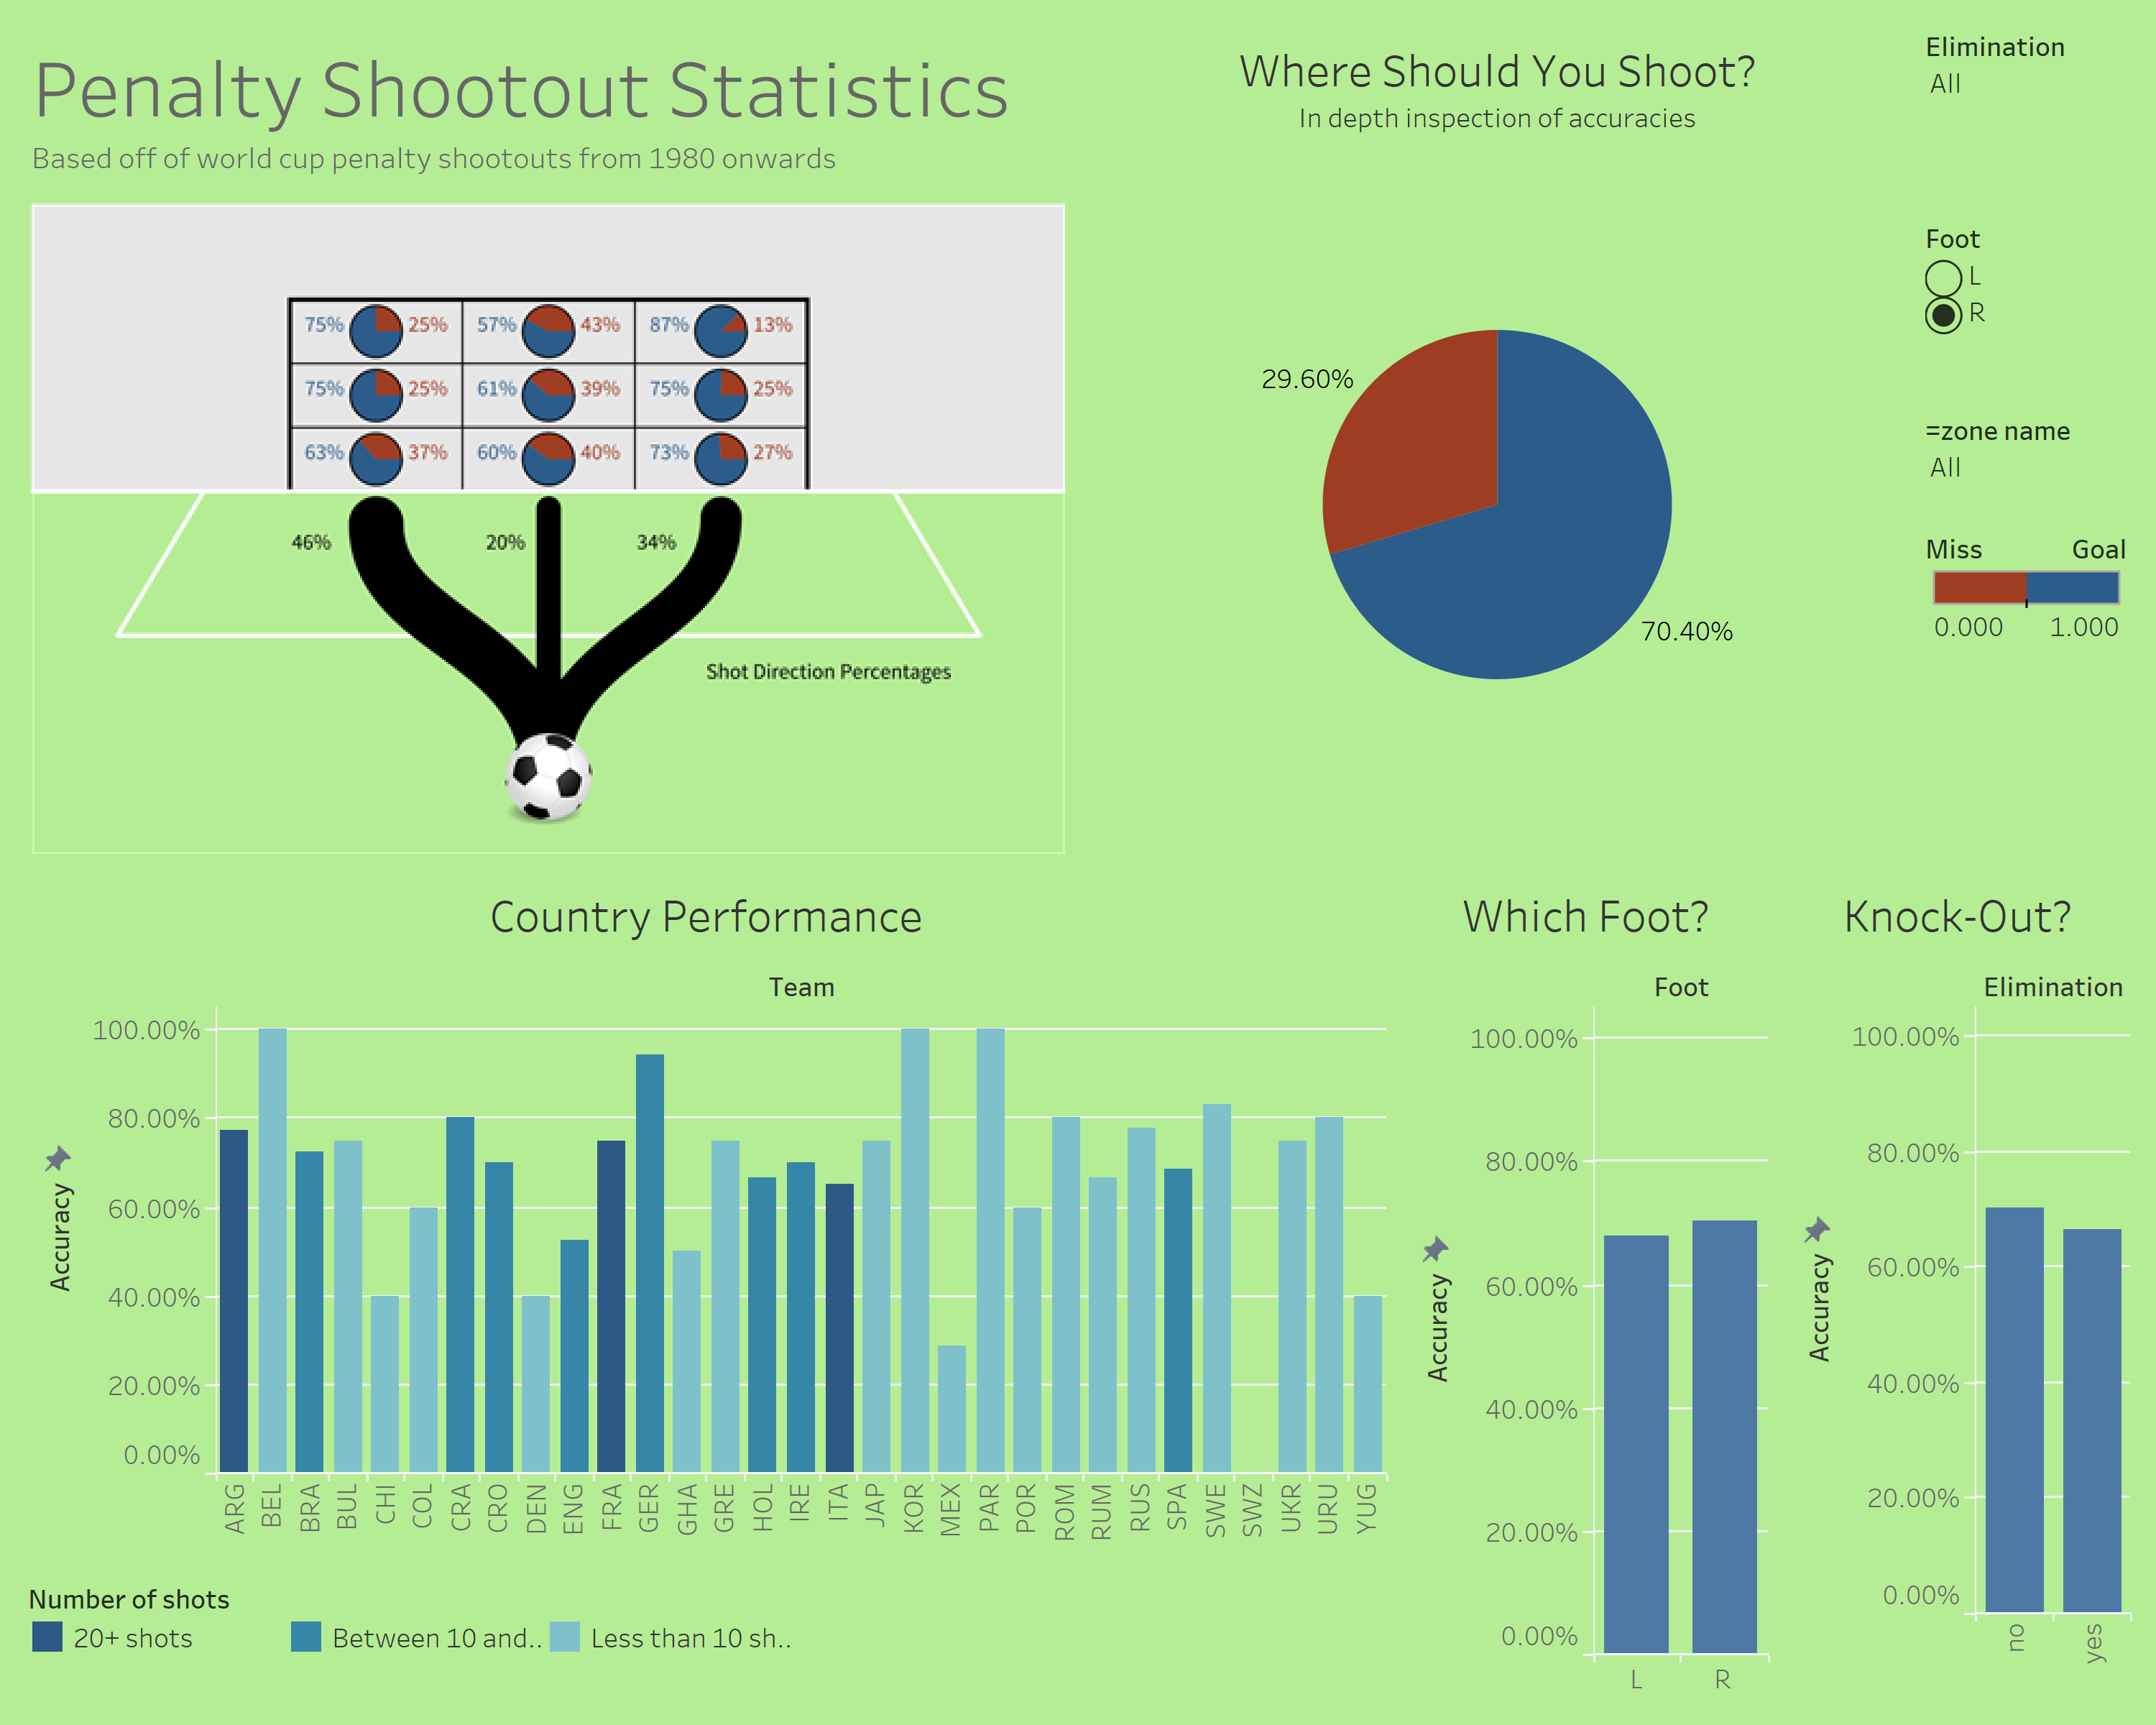

What the dashboard file says about the page in this screenshot:
{"tool":"tableau","page":{"name":"Dashboard 1","canvas":[1000,800],"ordinal":0},"visuals":[{"type":"text","box":[8,8,491.9,82]},{"type":"worksheet","title":"Where Should You Shoot?","mark":"Pie","box":[499.9,8,388.9,392]},{"type":"filter","title":"Where Should You Shoot?","param":"[federated.1uyu1qz1gg6x9h12y7zmn0uqft87].[none:Calculation_606578625202626565:nk","box":[888.8,8,103.2,89]},{"type":"image","param":"C:/Users/johnn/OneDrive/Documents/Processing/Penalty_Goals_stats/data/goals_crop","box":[8,90,491.9,310]},{"type":"filter","title":"Where Should You Shoot?","param":"[federated.1uyu1qz1gg6x9h12y7zmn0uqft87].[none:Foot:nk]","box":[888.8,97,103.2,89]},{"type":"filter","title":"Where Should You Shoot?","param":"[federated.1uyu1qz1gg6x9h12y7zmn0uqft87].[none:Calculation_606578625232199691:nk","box":[888.8,186,103.2,52]},{"type":"legend","title":"Where Should You Shoot?","param":"[federated.1uyu1qz1gg6x9h12y7zmn0uqft87].[Multiple Values]","box":[888.8,238,103.2,65]},{"type":"worksheet","title":"Country Performance","mark":"Automatic","rows":["Calculation_1116048332958175233"],"cols":["Team"],"box":[8,400,638.7,327]},{"type":"worksheet","title":"Which Foot?","mark":"Automatic","rows":["Calculation_1116048332958175233"],"cols":["Foot"],"box":[646.7,400,177,392]},{"type":"worksheet","title":"Knock-Out?","mark":"Automatic","rows":["Calculation_1116048332958175233"],"cols":["Calculation_606578625202626565"],"box":[823.7,400,168.3,392]},{"type":"legend","title":"Country Performance","param":"[federated.1uyu1qz1gg6x9h12y7zmn0uqft87].[usr:Calculation_606578625195307011:nk]","box":[8,727,638.7,65]}]}

Visuals, with their boxes in screenshot pixels (x1, y1, x2, y2), scaled from the page's 1000x800 canvas onto the 2156x1725 screenshot:
text: [17, 17, 1078, 194]
"Where Should You Shoot?" worksheet (Pie marks): [1078, 17, 1916, 862]
"Where Should You Shoot?" filter: [1916, 17, 2139, 209]
image: [17, 194, 1078, 862]
"Where Should You Shoot?" filter: [1916, 209, 2139, 401]
"Where Should You Shoot?" filter: [1916, 401, 2139, 513]
"Where Should You Shoot?" legend: [1916, 513, 2139, 653]
"Country Performance" worksheet: [17, 862, 1394, 1568]
"Which Foot?" worksheet: [1394, 862, 1776, 1708]
"Knock-Out?" worksheet: [1776, 862, 2139, 1708]
"Country Performance" legend: [17, 1568, 1394, 1708]
